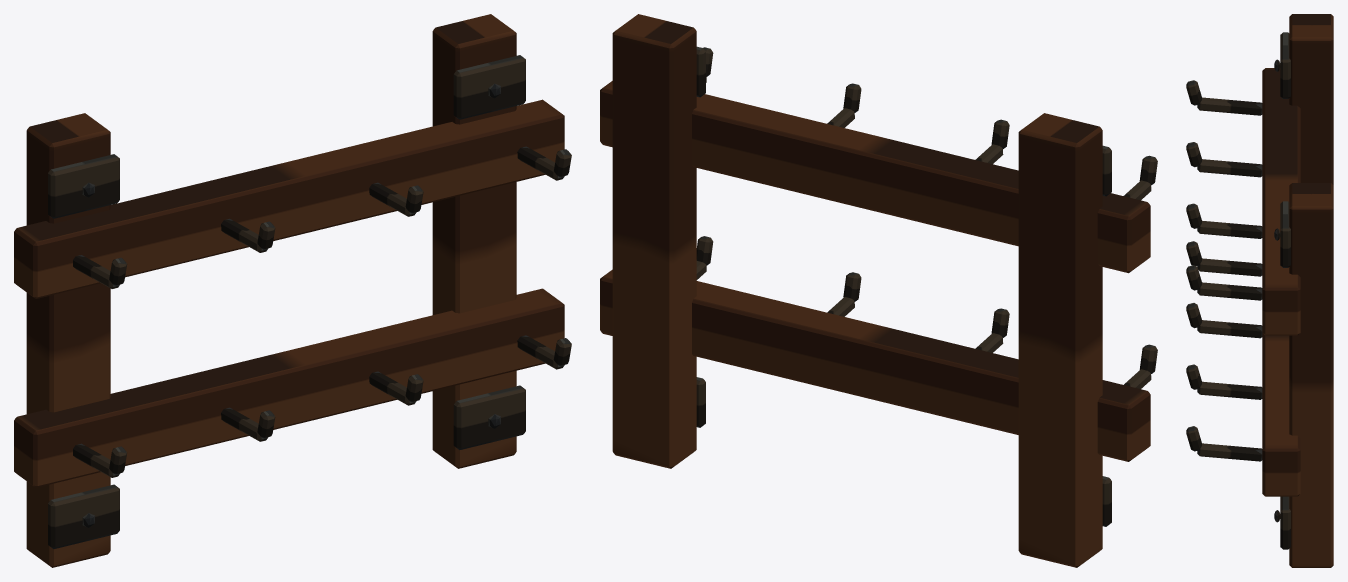
The model's file is WeaponRack_Wall_Empty.fbx.
The picture shows the model from 3 angles, left to right: view 1: azimuth 30°, elevation 25°; view 2: azimuth 150°, elevation 25°; view 3: azimuth 270°, elevation 25°; orthographic projection. The views are drawn at different scales.
Parts seen in each view (by area): view 1: WeaponRack_Wall_Empty; view 2: WeaponRack_Wall_Empty; view 3: WeaponRack_Wall_Empty.
Boxes of the visible parts, bbox=[...] form: WeaponRack_Wall_Empty: bbox=[14, 14, 571, 567]; WeaponRack_Wall_Empty: bbox=[600, 14, 1157, 567]; WeaponRack_Wall_Empty: bbox=[1186, 14, 1333, 567].
Size of the model in its own units: 1.65 by 1.26 by 0.4656.
Materials: 2 (2 with a texture image).
